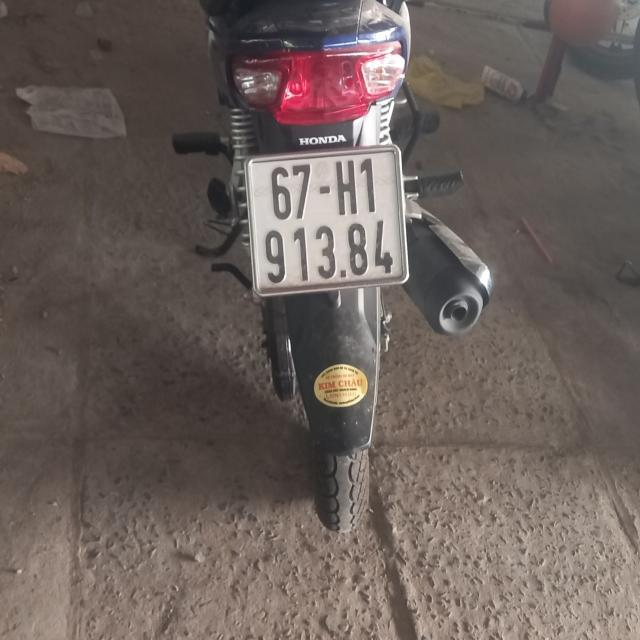1: (360, 158, 375, 213), (294, 228, 308, 282)
3: (316, 225, 337, 279)
4: (374, 221, 394, 273)
6: (271, 167, 291, 220)
7: (292, 164, 312, 219)
8: (348, 222, 368, 277)
9: (264, 230, 286, 283)
H: (336, 159, 357, 216)
